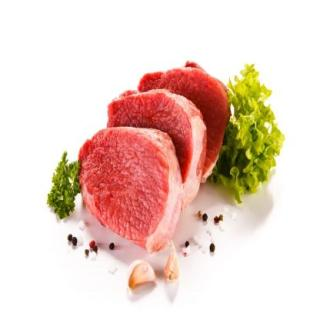Daging Sapi: (82, 131, 178, 249), (110, 93, 204, 206)
